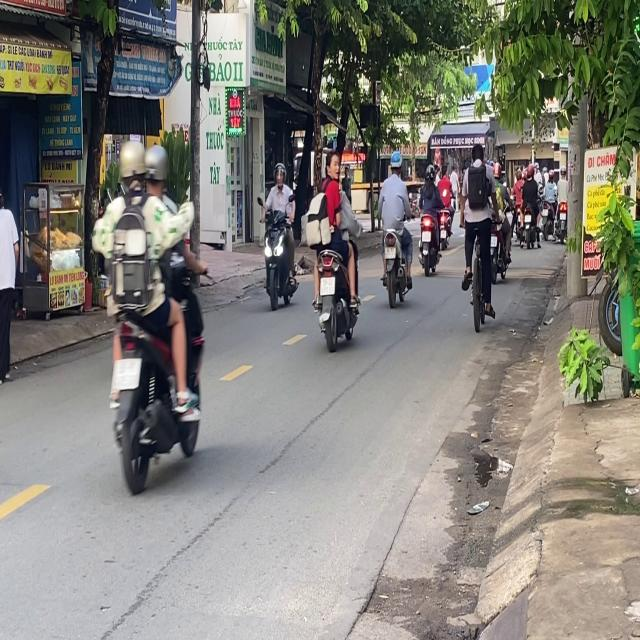helmet: (117, 138, 147, 200), (143, 142, 169, 195), (273, 162, 285, 186)
licenseplate: (100, 138, 208, 491), (308, 151, 361, 349), (259, 161, 299, 309)
motorcyclist: (325, 153, 341, 182)
nohelmet: (112, 358, 140, 388), (319, 276, 335, 294)
